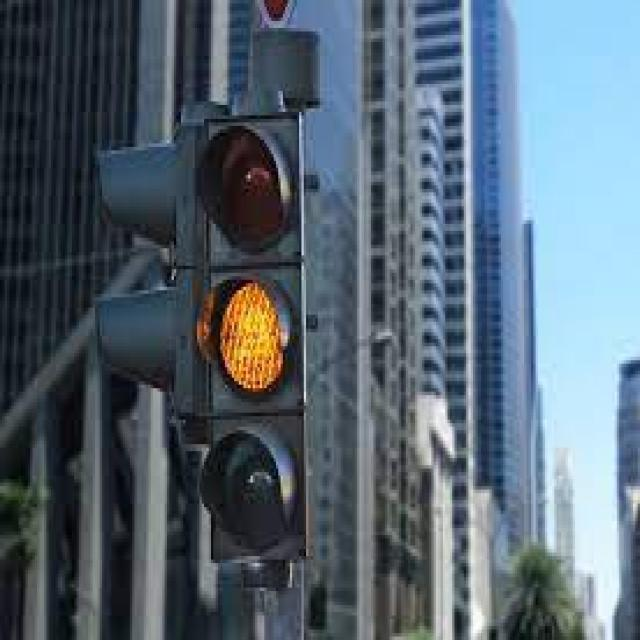yellow_light: (201, 119, 307, 562)
